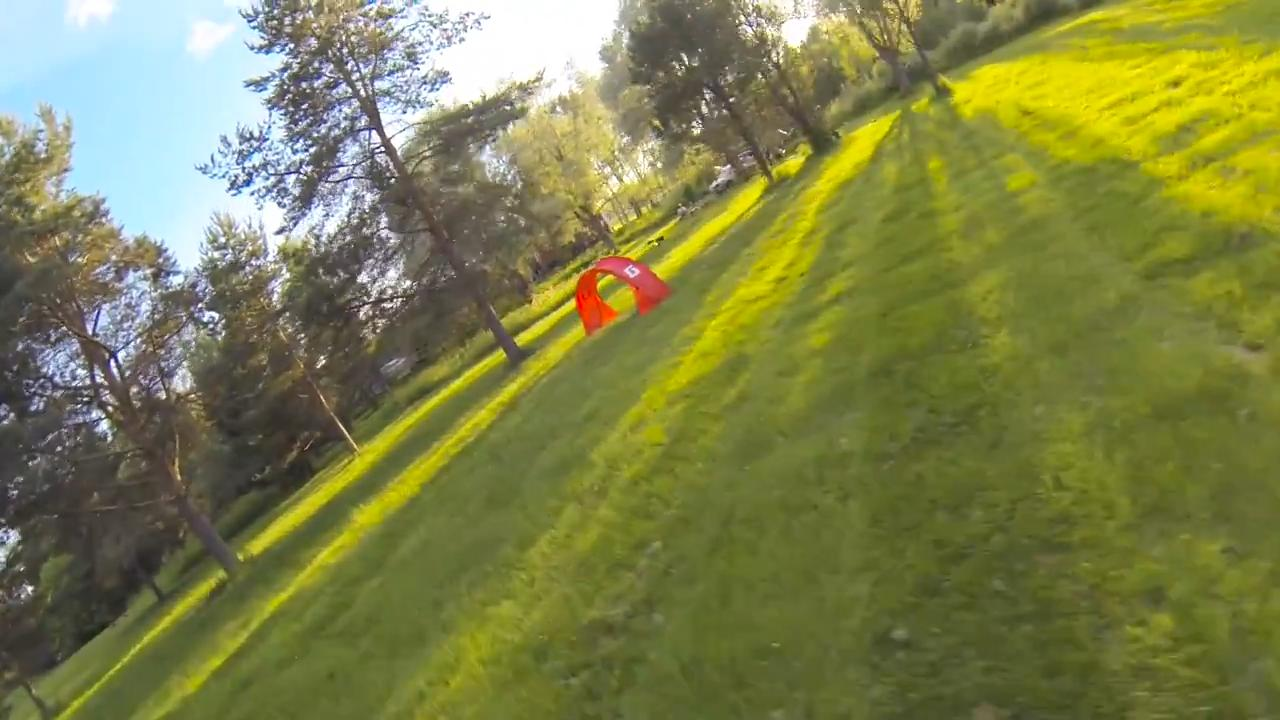gate: (570, 256, 673, 339)
